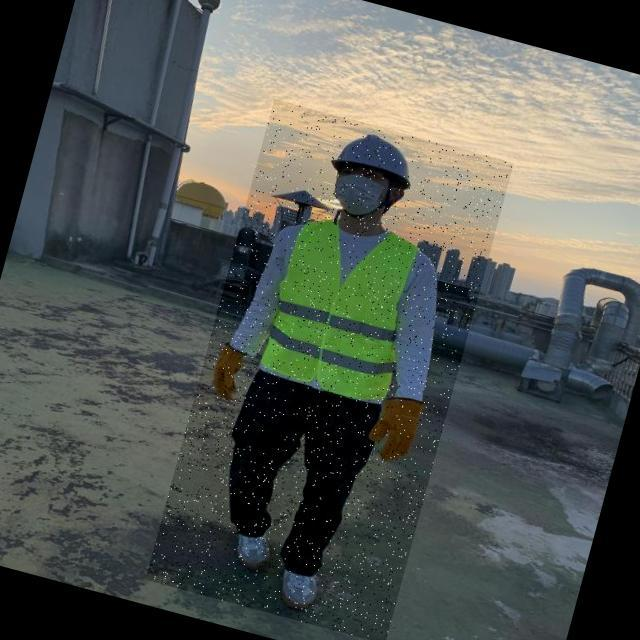Gloves: (363, 390, 427, 468), (206, 340, 248, 402)
Helmet: (327, 125, 421, 190)
Person: (188, 110, 449, 620)
Safety Boot: (273, 566, 322, 614), (230, 527, 278, 575)
Safety Vest: (257, 208, 427, 405)
